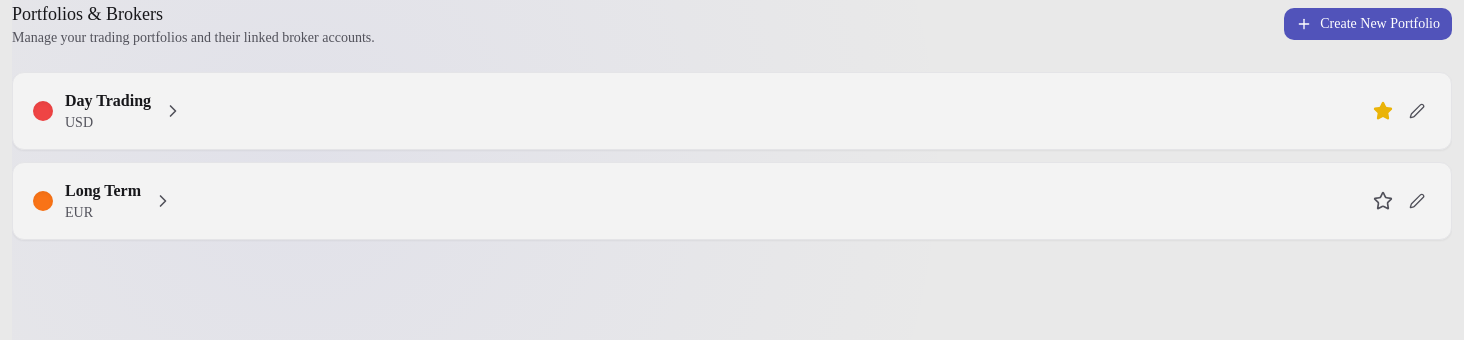
PortfoliosBrokersHub › clicking chevron expands a portfolio accordion
Click the button "Day Trading USD". click: (108, 100)
box: [33, 89, 1359, 133]
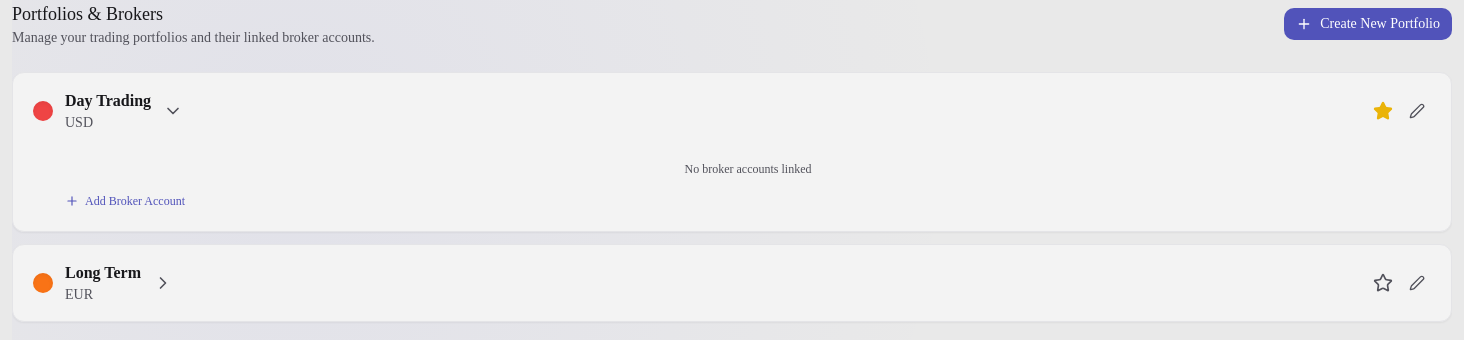
Now the text "No broker accounts linked" is shown, box [684, 162, 812, 176]
